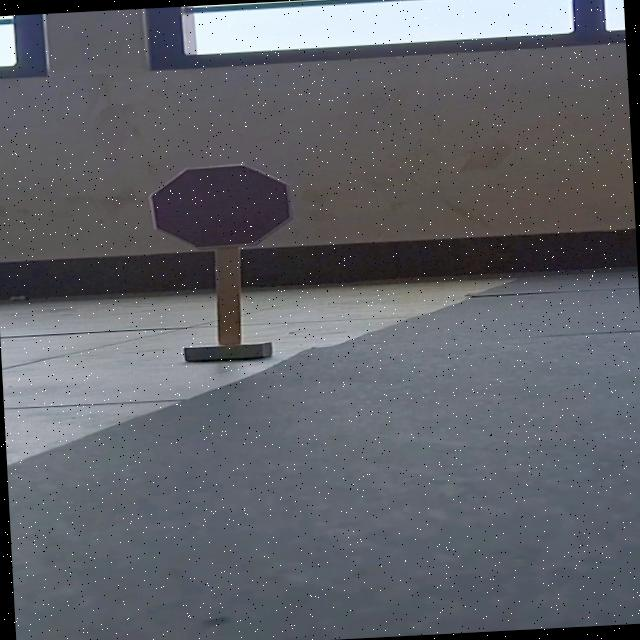Stop: (147, 162, 298, 252)
